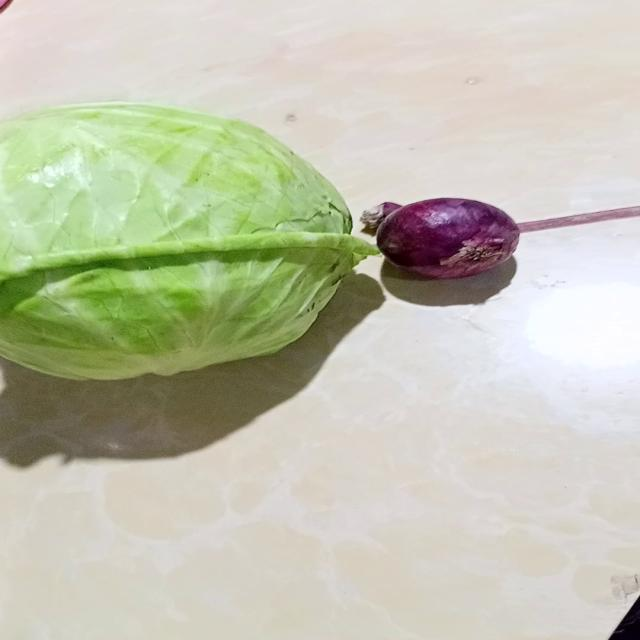cabbage: (0, 103, 379, 384)
onion: (376, 197, 520, 281)
